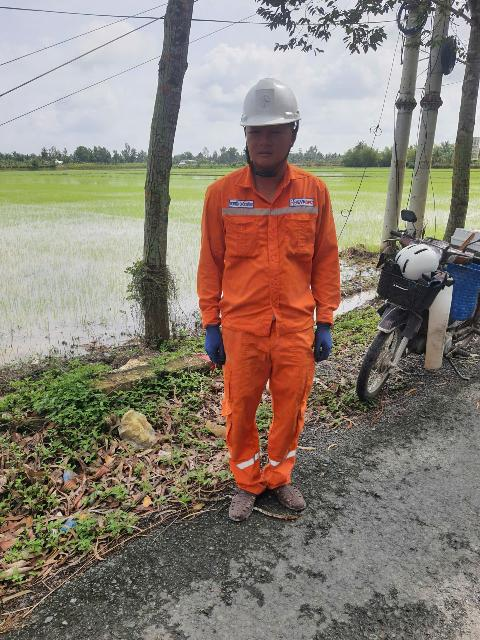gloves: (196, 315, 240, 375), (295, 309, 338, 369)
helmet: (234, 68, 313, 134)
shoes: (268, 474, 316, 521), (223, 480, 266, 528)
